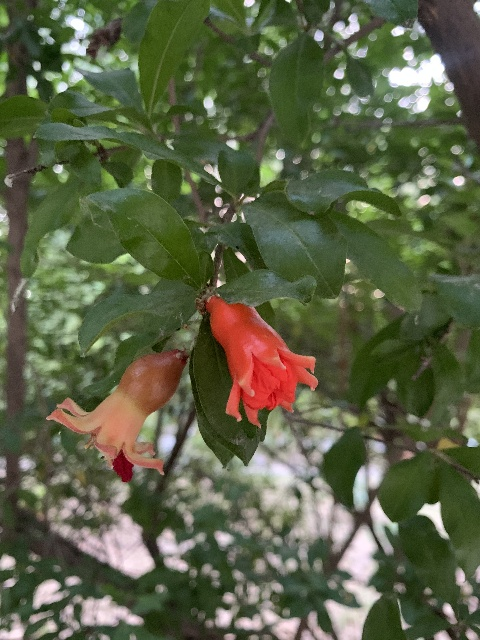early-fruit: (45, 349, 186, 483)
flower: (207, 295, 316, 428)
